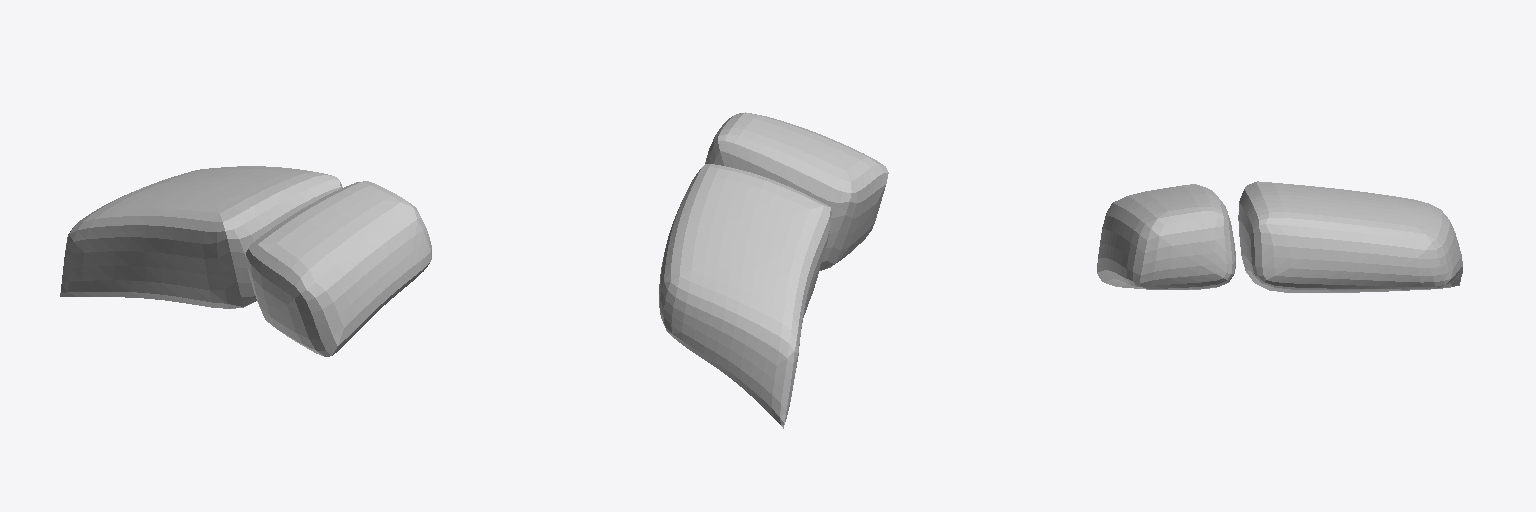
File: LeftToe.obj
3 views of the same model, side by side, from view 1: azimuth 30°, elevation 25°; view 2: azimuth 150°, elevation 25°; view 3: azimuth 270°, elevation 25° (orthographic).
Visible parts, largest first — view 1: toes_left.001; view 2: toes_left.001; view 3: toes_left.001.
Boxes of the visible parts, <box> form: toes_left.001: <box>60,166,431,356</box>; toes_left.001: <box>659,112,888,428</box>; toes_left.001: <box>1097,181,1462,292</box>.
Bounding box in the file's own units: 0.0516 × 0.0373 × 0.0762.